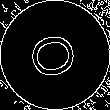O_E: (25, 28, 85, 82)
